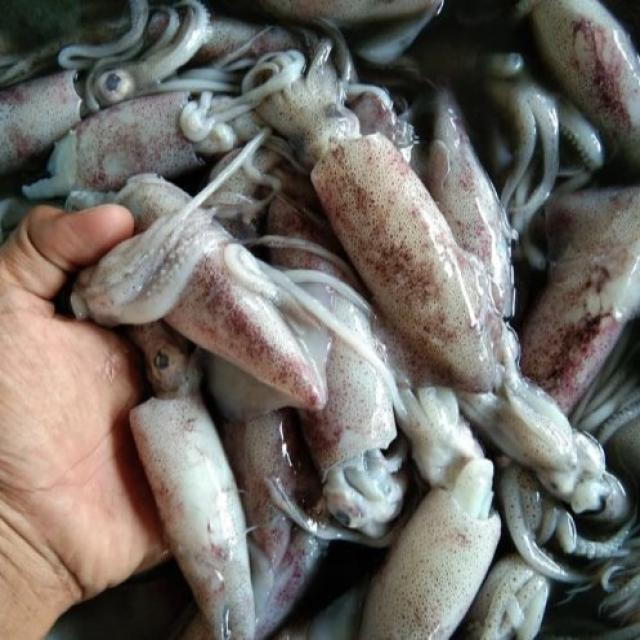SQUID: (272, 68, 523, 412), (104, 360, 278, 640), (350, 406, 505, 640)
